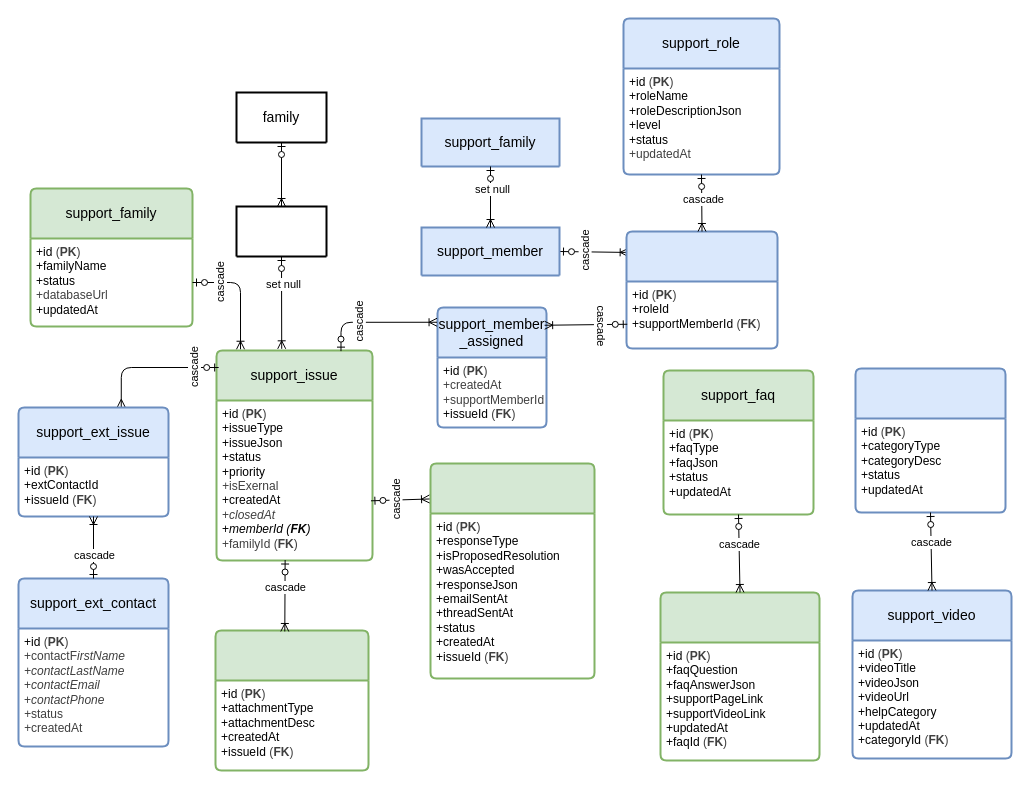
Some shapes in this 1029 by 788 pixel diagram are drawn without their labels. Here are the shapes that lost their labels. From the top down, the box of each, then its label:
(235, 205, 327, 257): member
(625, 230, 778, 349): support_member_role
(854, 367, 1006, 513): support_category
(429, 462, 595, 679): support_response
(659, 591, 820, 761): support_faq_qna
(214, 629, 369, 771): support_attachment
